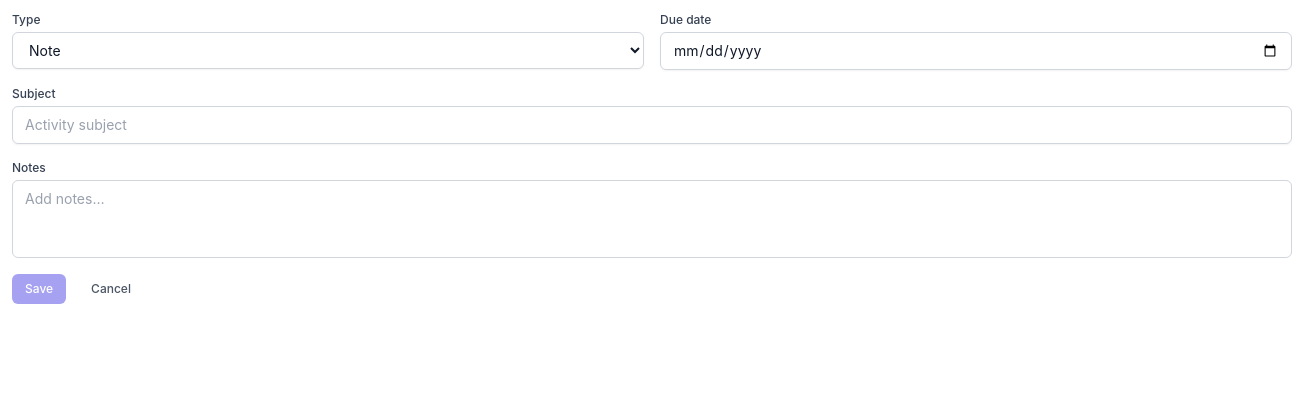
Test: ActivityForm › shows direction and outcome fields when type is Email
Select "Email" in the dropdown with test id "activity-type-select" at (328,50), box [12,32,644,69]
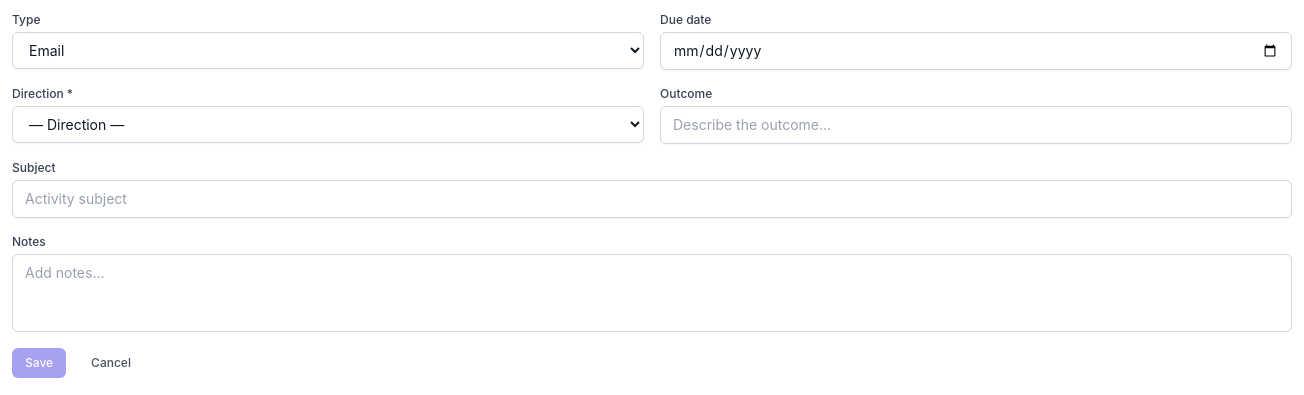
Result: the dropdown with test id "activity-direction-select" is shown at [12,106,644,143]
Result: the field with test id "activity-outcome" is shown at [660,106,1292,144]
